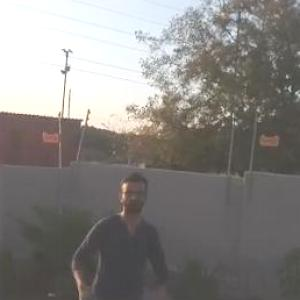follow: (65, 159, 171, 299)
